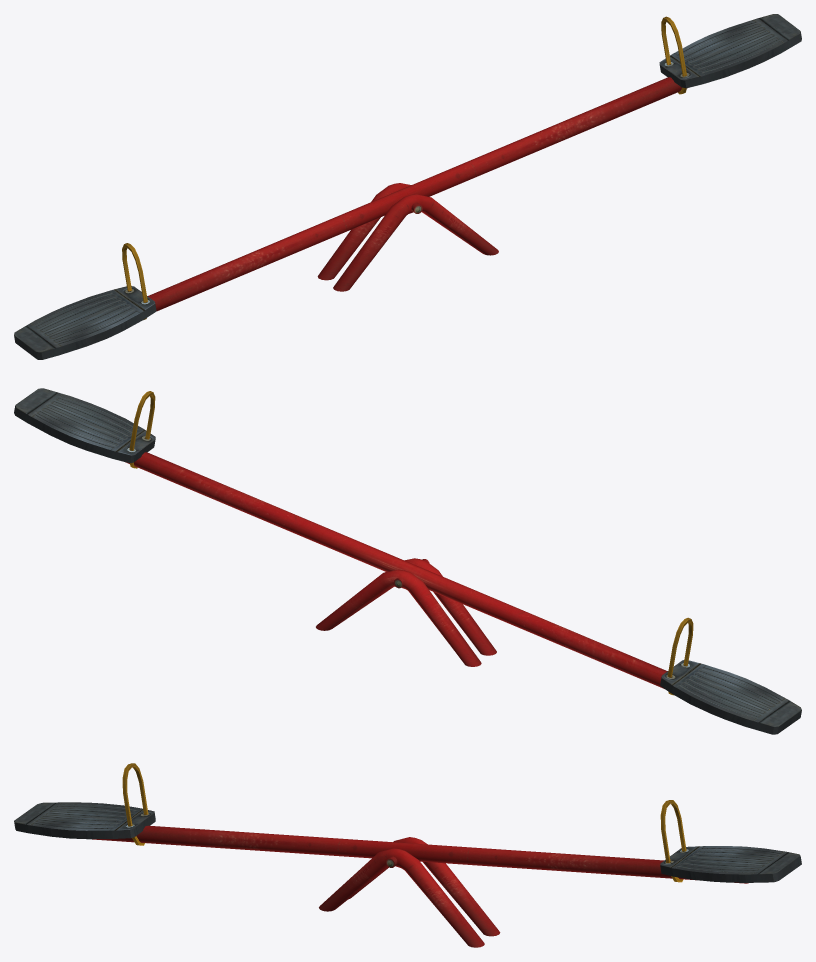
The model's file is kach.FBX.
The picture shows the model from 3 angles, top to bottom: view 1: azimuth 30°, elevation 25°; view 2: azimuth 150°, elevation 25°; view 3: azimuth 330°, elevation 25°; orthographic projection.
Visible parts, largest first — view 1: Cylinder005; view 2: Cylinder005; view 3: Cylinder005.
Part boxes in pixels (box(x1,y1,x2,y2)): Cylinder005: box(14, 14, 801, 359); Cylinder005: box(14, 388, 801, 734); Cylinder005: box(14, 763, 801, 947).
Size of the model in its own units: 195 by 44.61 by 16.13.
